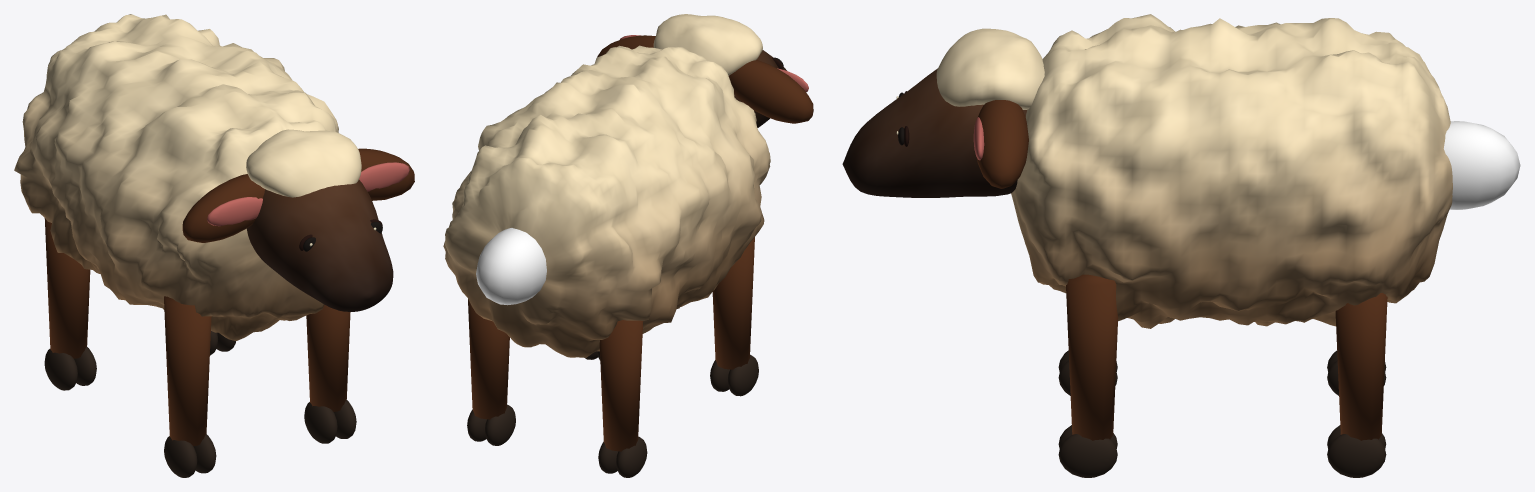
Rendered from Sheep.fbx.
3 renders of one model, left to right at view 1: azimuth 30°, elevation 25°; view 2: azimuth 150°, elevation 25°; view 3: azimuth 270°, elevation 25°, orthographic. The views are drawn at different scales.
Visible parts, largest first — view 1: BodyMesh.003, HeadMesh.003, Leg_FLMesh.002, Leg_BLMesh.002, Leg_FRMesh.002; view 2: BodyMesh.003, HeadMesh.003, Leg_BLMesh.002, Leg_FLMesh.002, Leg_BRMesh.002, TailMesh.003; view 3: BodyMesh.003, HeadMesh.003, Leg_FRMesh.002, Leg_BRMesh.002, TailMesh.003.
Boxes of the visible parts, x1,y1,x2,y2 form: BodyMesh.003: (14,14,338,340); HeadMesh.003: (182,129,414,311); Leg_FLMesh.002: (164,296,216,477); Leg_BLMesh.002: (44,218,96,390); Leg_FRMesh.002: (304,305,356,443); BodyMesh.003: (443,45,770,357); HeadMesh.003: (597,14,813,127); Leg_BLMesh.002: (598,320,647,477); Leg_FLMesh.002: (710,237,758,396); Leg_BRMesh.002: (467,299,515,445); TailMesh.003: (476,228,546,305); BodyMesh.003: (1011,14,1452,328); HeadMesh.003: (842,28,1044,197); Leg_FRMesh.002: (1058,274,1118,477); Leg_BRMesh.002: (1327,293,1387,477); TailMesh.003: (1443,121,1520,209).
Bounding box in the file's own units: 69.97 × 97.95 × 149.
